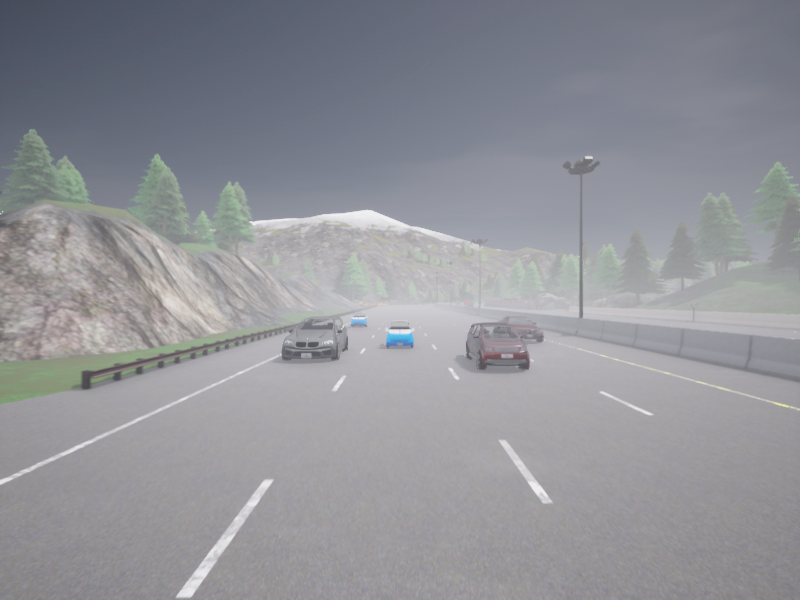vehicle: (465, 322, 529, 370), (282, 316, 348, 360), (499, 316, 545, 342), (385, 320, 414, 348), (351, 312, 367, 327), (464, 300, 470, 305), (467, 303, 472, 306), (457, 302, 461, 305), (471, 302, 474, 303)
